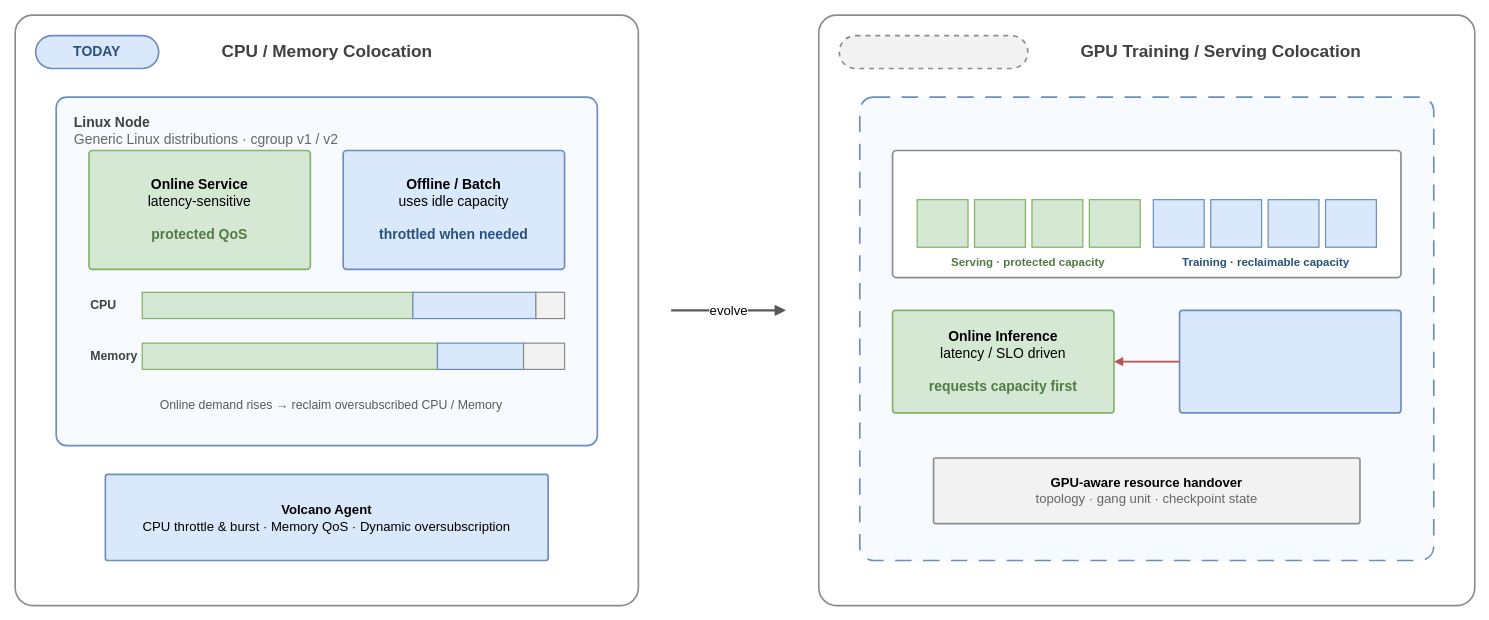
Image size: 1489x620. Some labels were removed from this diagram. The box of each missing label's shape, as (x1, y1, x2, y2) in pixels:
8-GPU Pool: (891, 149, 1401, 278)
Distributed Training uses reclaimable GPUs checkpoint before handover: (1178, 309, 1401, 413)
FUTURE DIRECTION: (838, 34, 1028, 69)
GPU HyperNode shared accelerator pool: (859, 96, 1434, 561)
